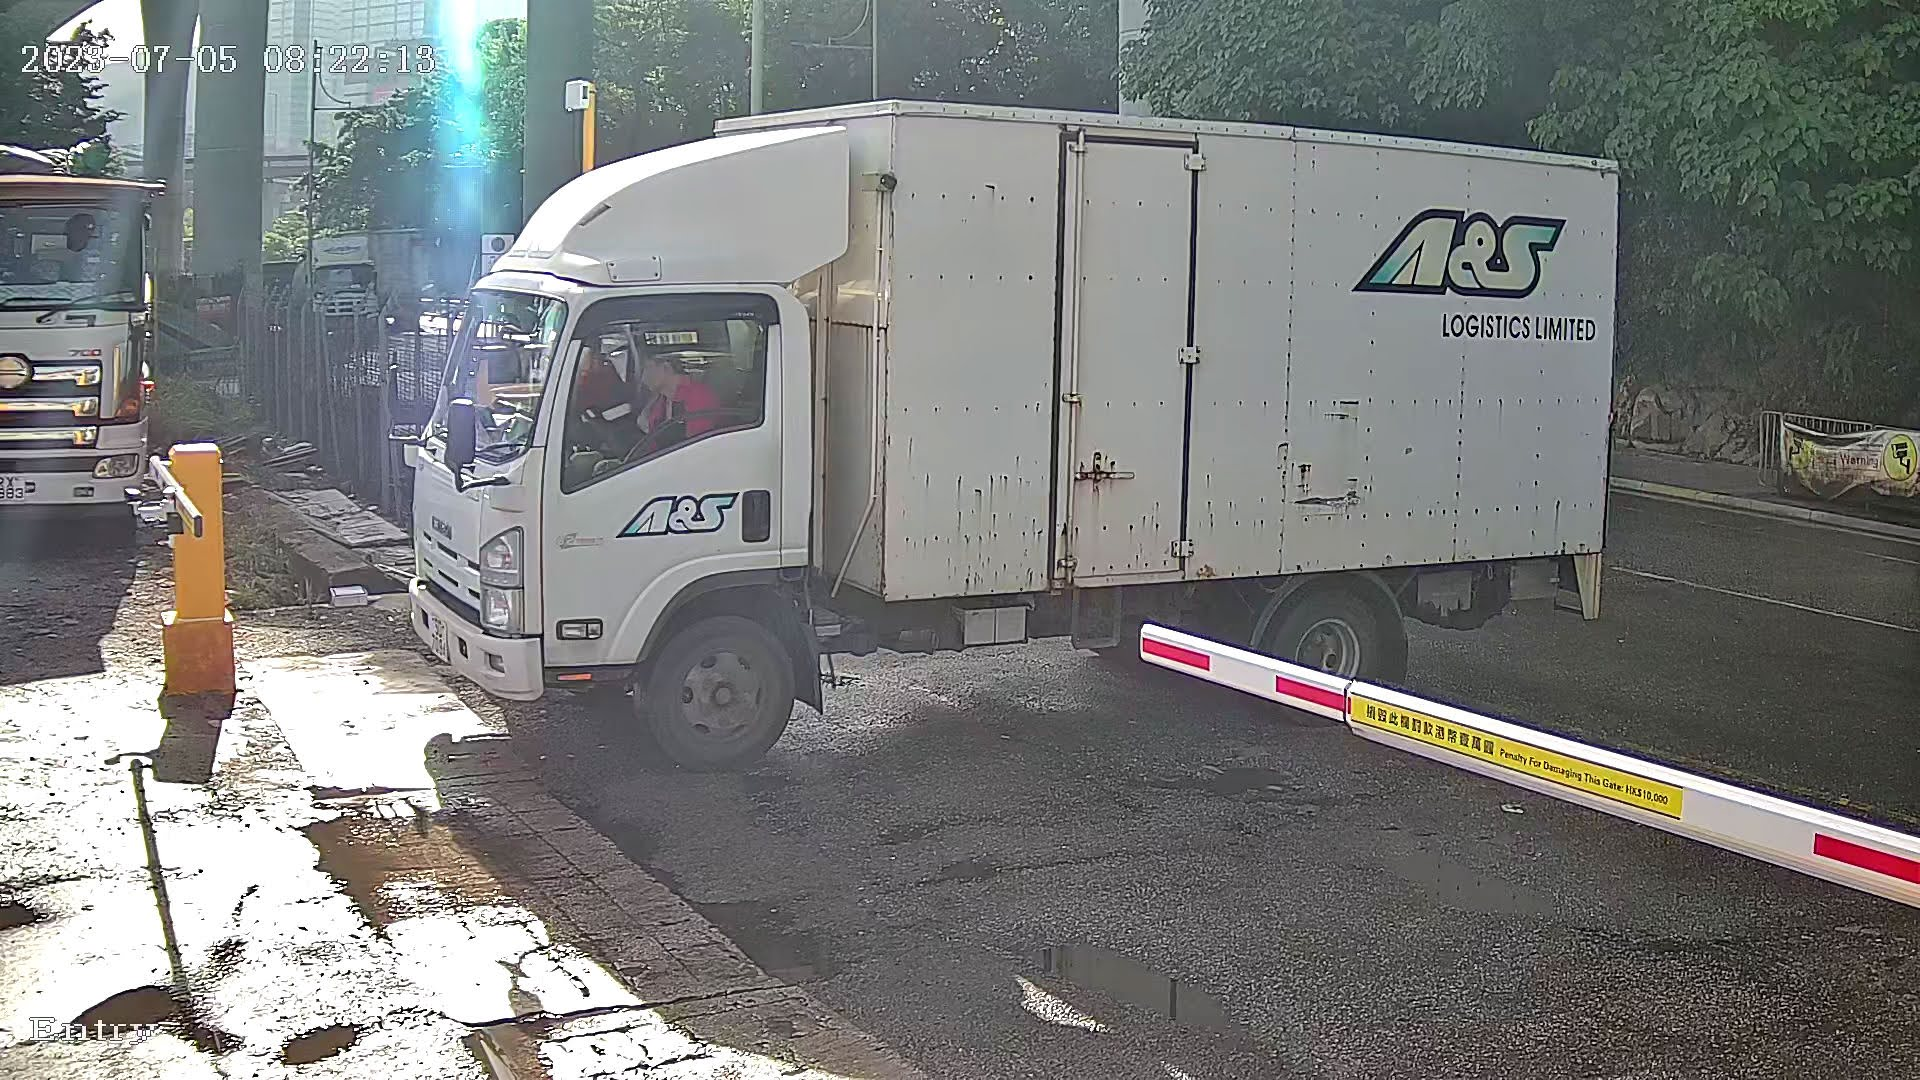truck_small: (378, 50, 1677, 789)
